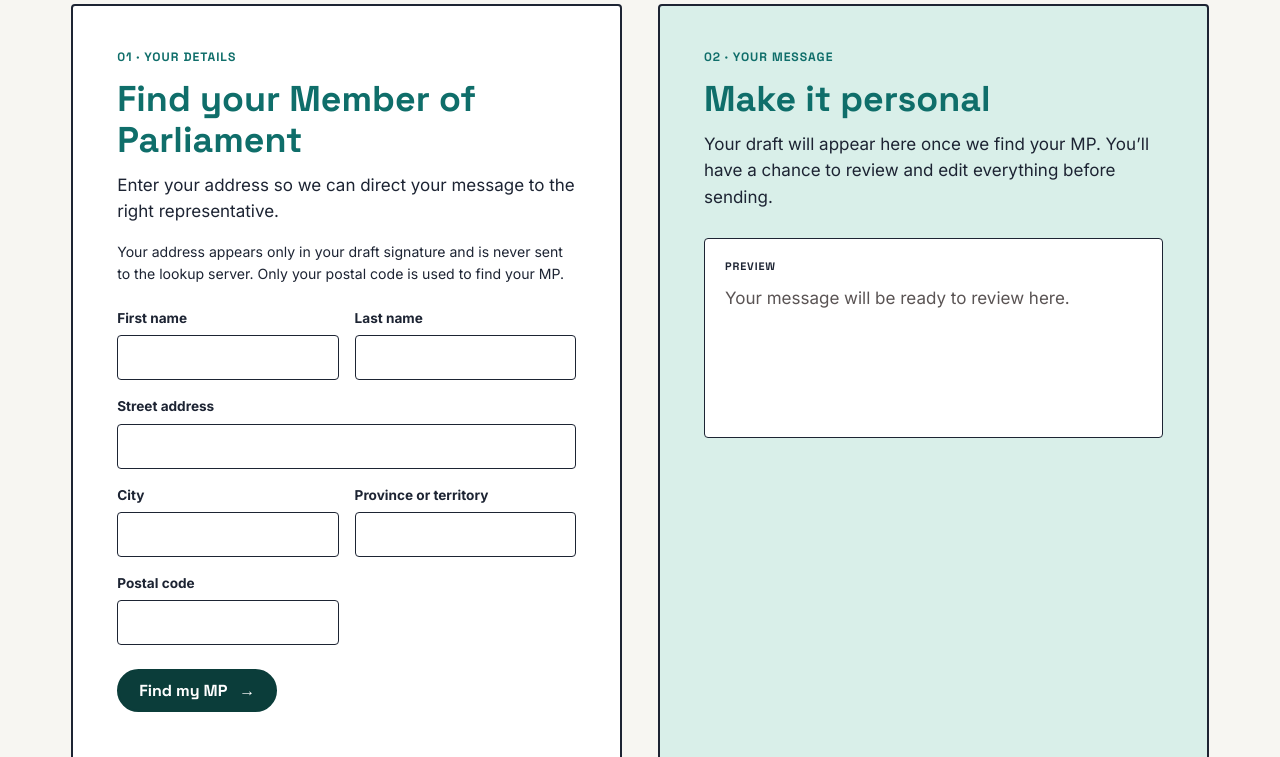
Test case: constituent lookup flow › shows a single MP with riding, email, and official profile link
(page scrolled)
Type "Ari" into the field labelled "First name" at (228, 358), box [117, 336, 339, 380]
Type "Lee" into the field labelled "Last name" at (465, 358), box [355, 336, 576, 380]
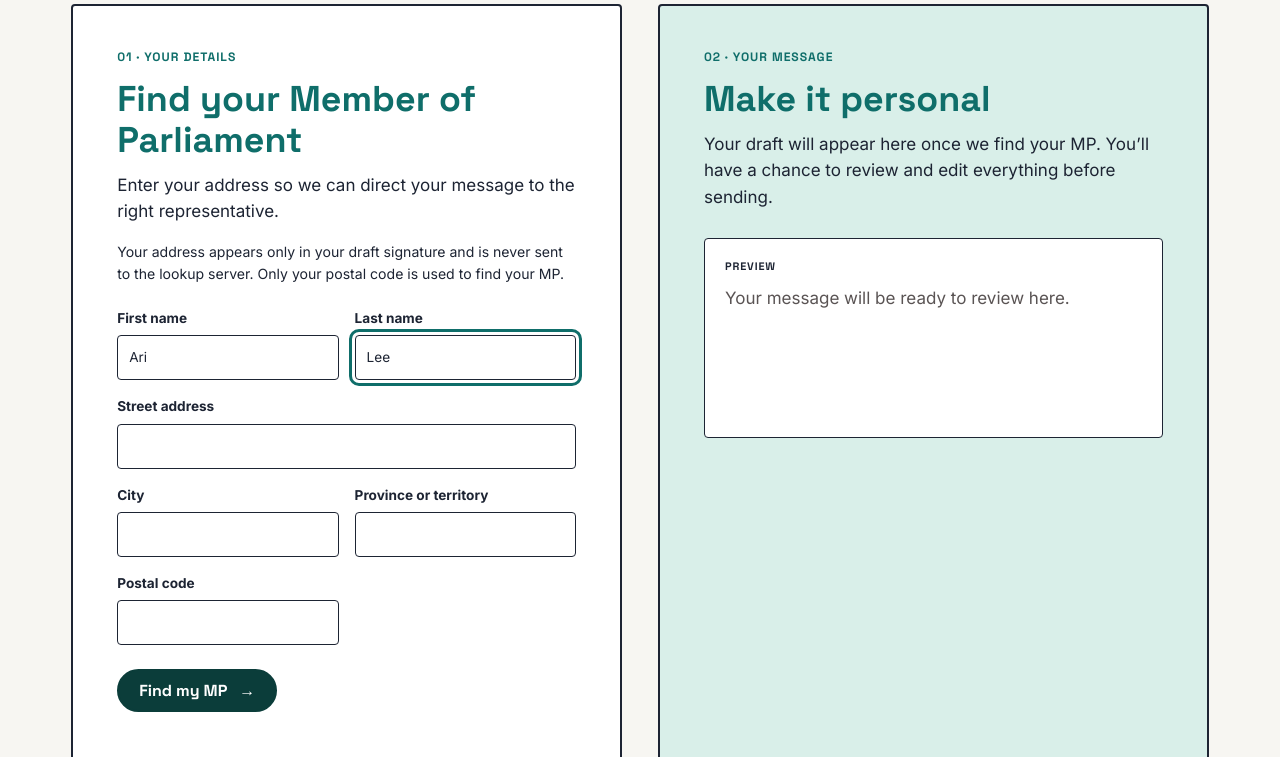
Type "10 Main St" into the field labelled "Street address" at (347, 446), box [117, 424, 576, 468]
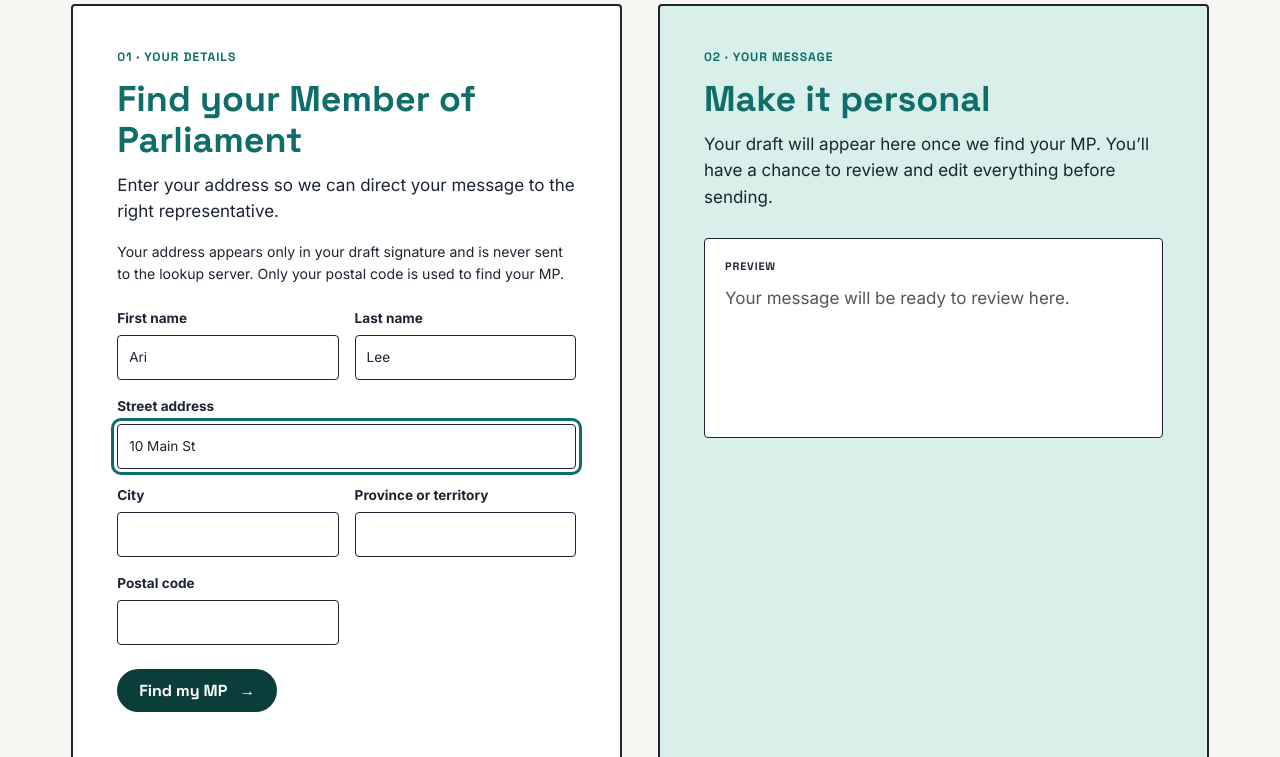
Type "Ottawa" into the field labelled "City" at (228, 534), box [117, 512, 339, 557]
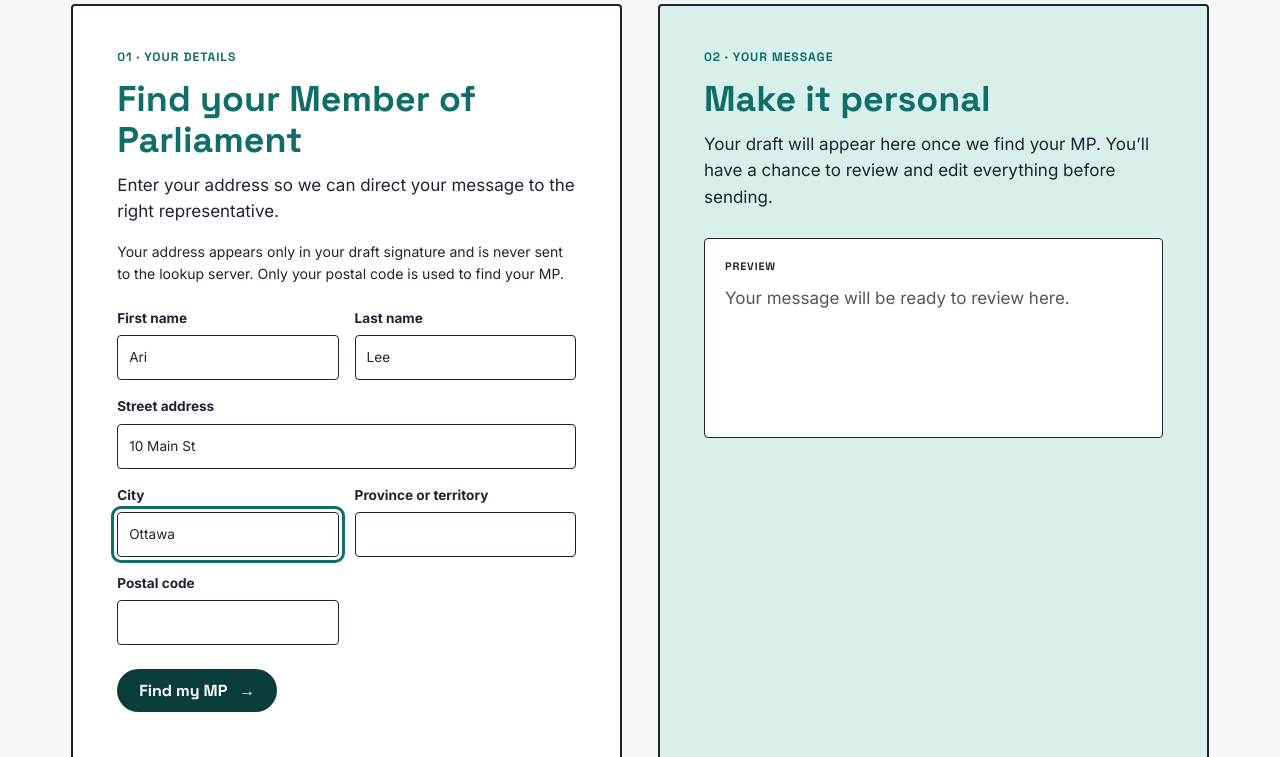
Type "ON" into the field labelled "Province or territory" at (465, 534), box [355, 512, 576, 557]
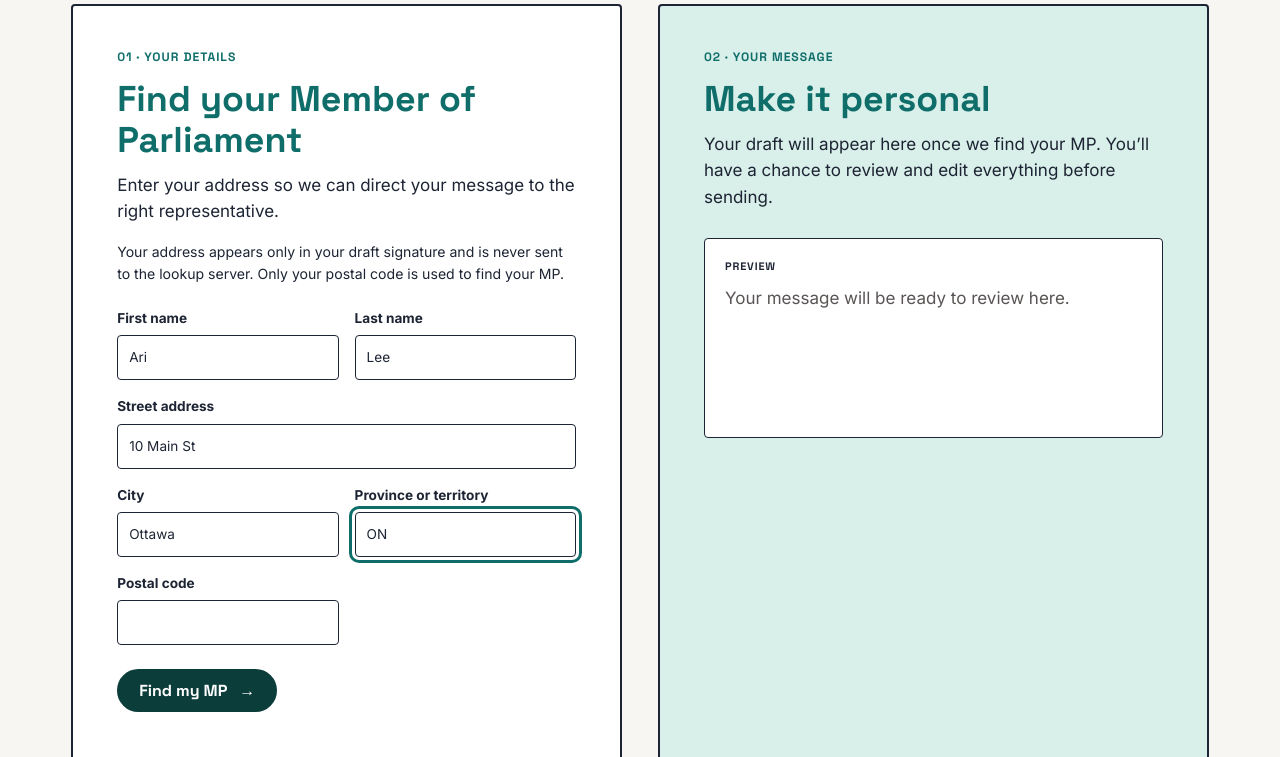
Type "K1A 0B1" into the field labelled "Postal code" at (228, 622), box [117, 600, 339, 645]
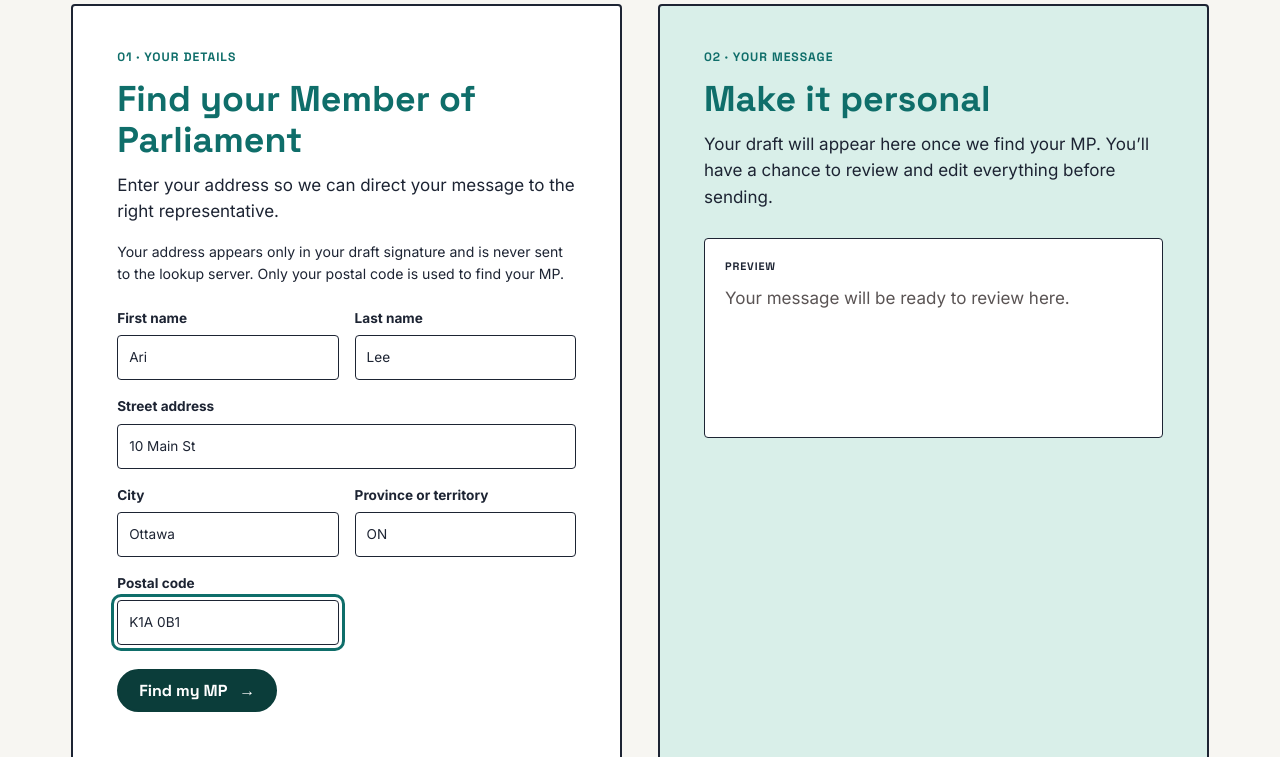
Click the button "Find my MP →" at (197, 690), box [117, 669, 277, 712]
(page scrolled)
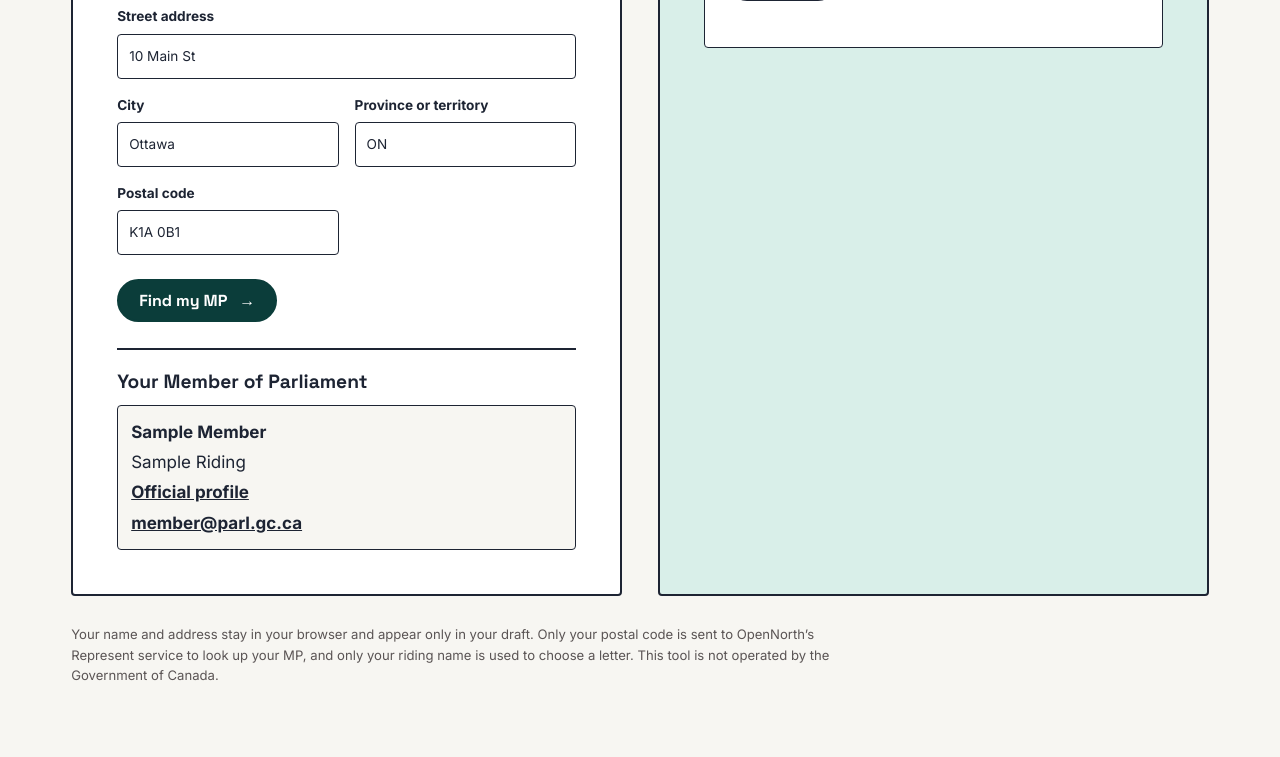
Expected: the text "Sample Member" is shown, [131, 422, 266, 442]
Expected: the text "Sample Riding" is shown, [131, 452, 246, 472]
Expected: the link "member@parl.gc.ca" is shown, [131, 510, 302, 536]
